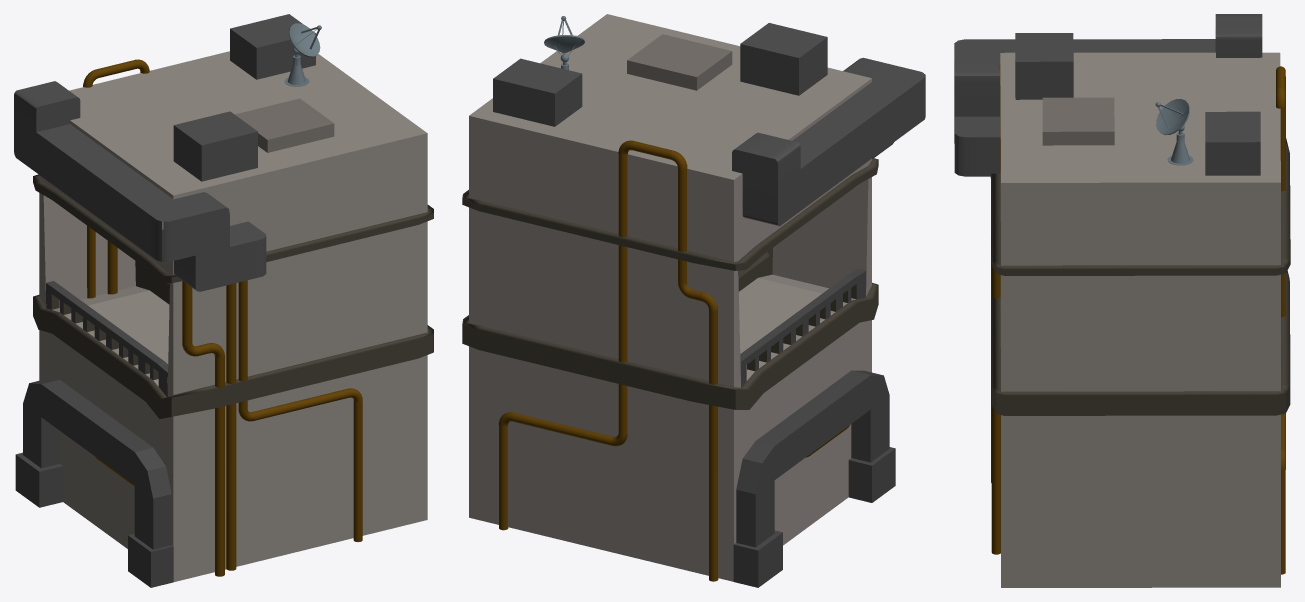
The model's file is 48_building9.fbx.
3 renders of one model, left to right at view 1: azimuth 30°, elevation 25°; view 2: azimuth 150°, elevation 25°; view 3: azimuth 270°, elevation 25°, orthographic. The views are drawn at different scales.
Parts seen in each view (by area): view 1: Buildings:pCube32, pCylinder347, pCylinder348, pCylinder346, pCylinder343, pCylinder344, pCylinder345, pCylinder350, pCylinder349; view 2: Buildings:pCube32, pCylinder356, pCylinder357, pCylinder359, pCylinder358, pCylinder343; view 3: Buildings:pCube32, pCylinder343, pCylinder346, pCylinder357, pCylinder358.
Part boxes in pixels (x1,y1,x2,y2): Buildings:pCube32: (14, 14, 433, 587); pCylinder347: (182, 281, 224, 576); pCylinder348: (226, 283, 236, 570); pCylinder346: (353, 401, 362, 541); pCylinder343: (284, 23, 321, 86); pCylinder344: (238, 388, 362, 421); pCylinder345: (238, 280, 247, 410); pCylinder350: (87, 225, 95, 298); pCylinder349: (107, 241, 117, 294); Buildings:pCube32: (462, 14, 925, 587); pCylinder356: (678, 168, 718, 581); pCylinder357: (618, 154, 627, 435); pCylinder359: (498, 412, 627, 446); pCylinder358: (499, 425, 508, 530); pCylinder343: (544, 16, 584, 70); Buildings:pCube32: (954, 14, 1290, 587); pCylinder343: (1155, 99, 1193, 165); pCylinder346: (991, 407, 1000, 554); pCylinder357: (1280, 107, 1285, 317); pCylinder358: (1281, 469, 1285, 574).
Bounding box in the file's own units: 4.78 × 6.92 × 4.48.
